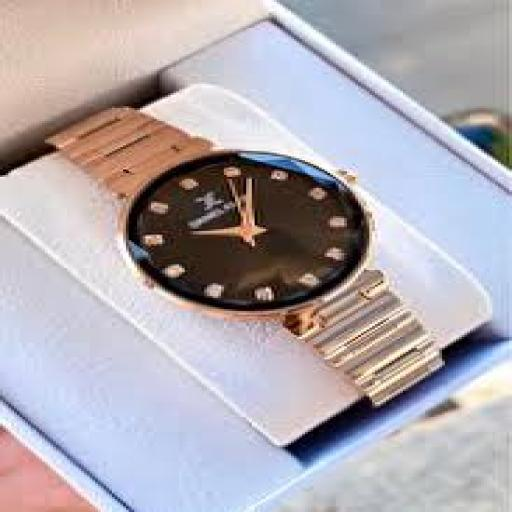KolSaati: (10, 94, 469, 420)
